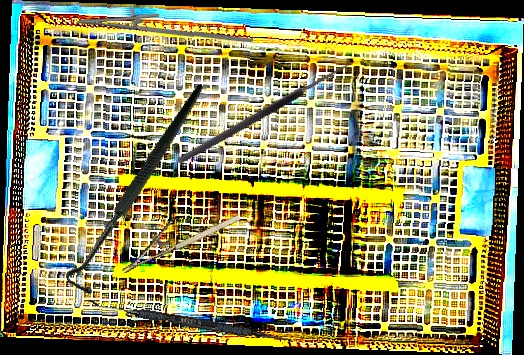Hook Surgical: (15, 82, 265, 302), (171, 49, 355, 166)
Needle Holder: (111, 195, 242, 274), (76, 3, 254, 46)
Spatula Surgical: (86, 299, 295, 345)
